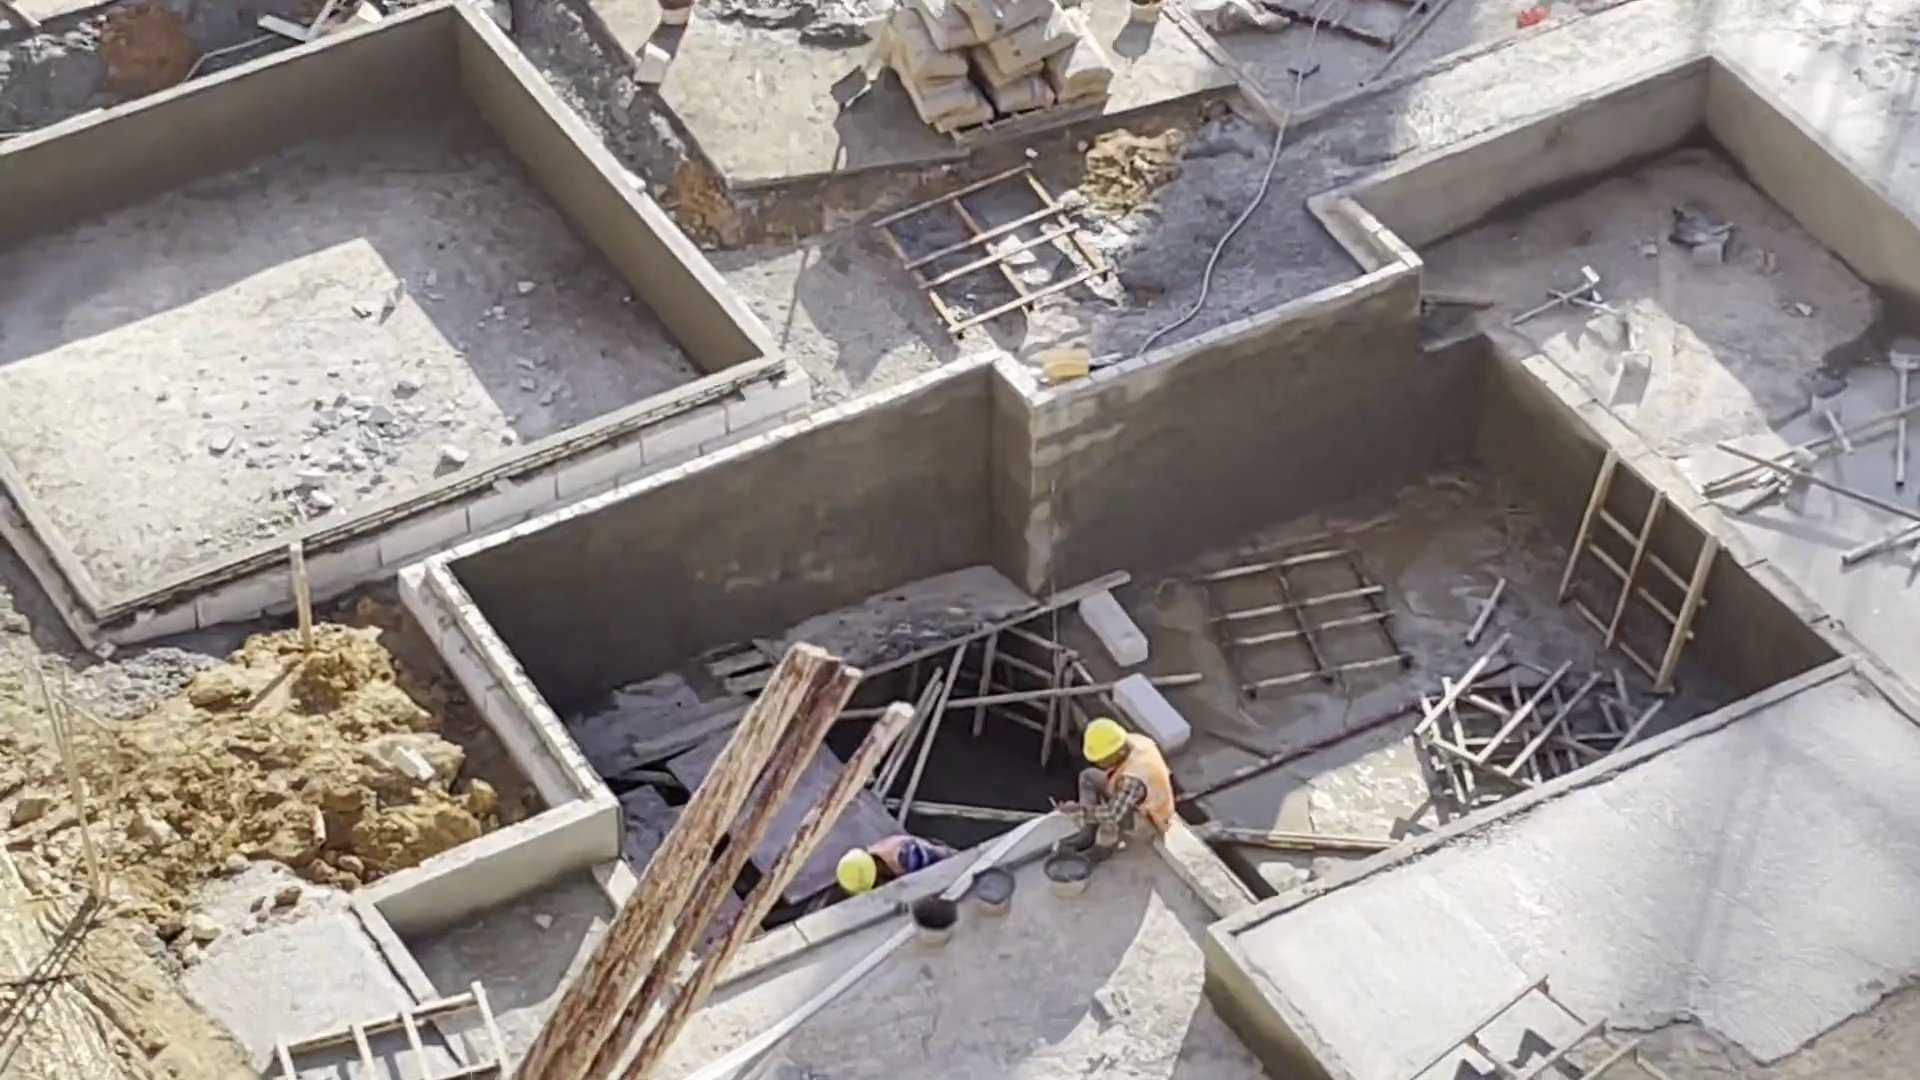helmet: (1063, 715, 1129, 774), (827, 839, 872, 907)
person: (1063, 705, 1186, 864), (808, 827, 960, 889)
vest: (1078, 752, 1190, 820)
